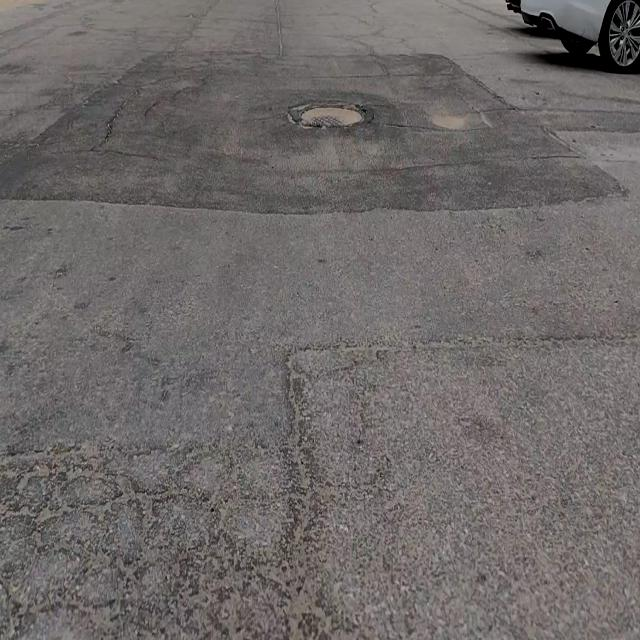Potholes: (294, 100, 373, 132)
